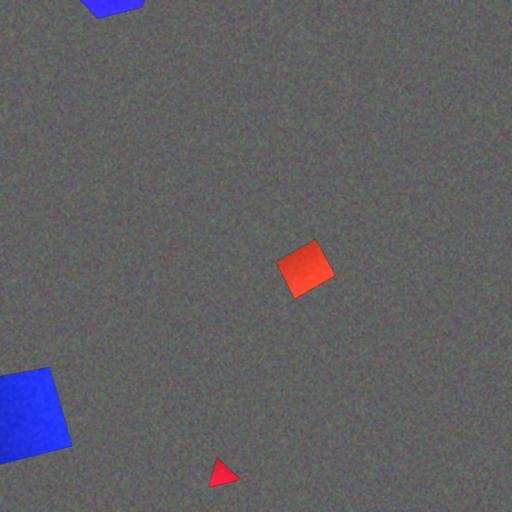BLUE_SQUARE: (0, 366, 74, 468)
RED_SQUARE: (275, 238, 336, 300)
